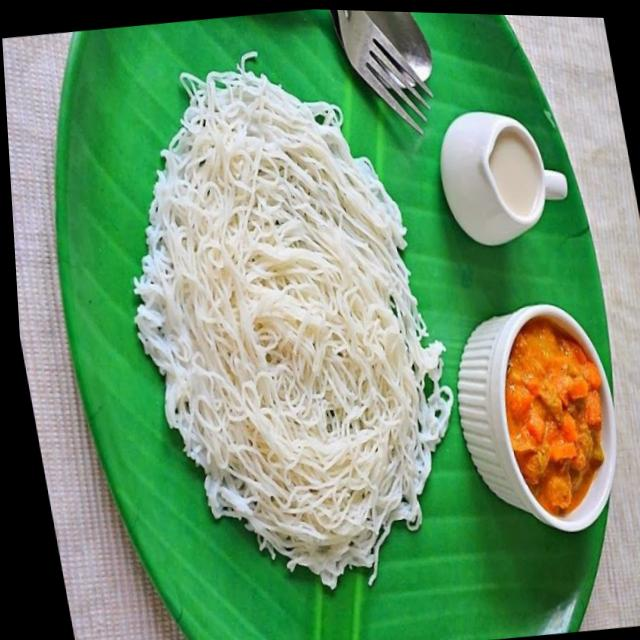IDIYAPPAM: (139, 67, 441, 575)
KURMA: (503, 301, 606, 517)
